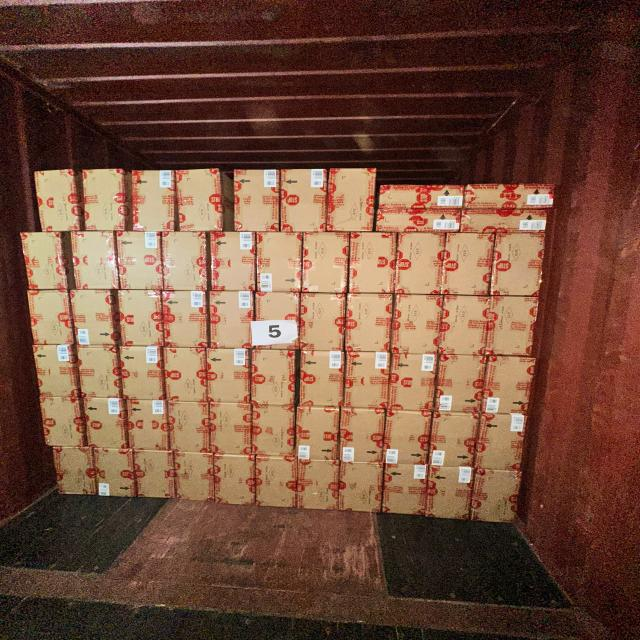Carton: (488, 232, 548, 298), (442, 229, 496, 299), (392, 230, 448, 297), (478, 353, 538, 415), (433, 351, 490, 414), (484, 295, 541, 357), (472, 410, 528, 472), (438, 293, 493, 356), (324, 165, 375, 232), (469, 466, 524, 527), (33, 167, 83, 234), (128, 168, 178, 234), (428, 408, 483, 467), (423, 464, 475, 524), (279, 170, 326, 236), (80, 167, 127, 233), (178, 169, 225, 233), (233, 171, 280, 234), (393, 294, 442, 354), (302, 234, 349, 296), (348, 234, 395, 296), (380, 460, 431, 517), (70, 230, 118, 290), (209, 230, 256, 291), (165, 234, 212, 294), (117, 231, 164, 291), (392, 351, 439, 411), (38, 394, 90, 448), (258, 231, 304, 292), (254, 291, 302, 349), (19, 234, 66, 293), (346, 292, 392, 352), (299, 351, 346, 409), (303, 292, 349, 350), (165, 288, 211, 346), (252, 346, 298, 404), (72, 289, 118, 347), (344, 352, 390, 410), (208, 289, 252, 349), (378, 182, 466, 212), (131, 446, 179, 501), (118, 290, 164, 347), (340, 408, 386, 465), (463, 182, 556, 210), (91, 446, 140, 498), (387, 411, 433, 466), (33, 345, 79, 399), (296, 406, 341, 461), (120, 345, 165, 400), (457, 207, 548, 234), (207, 348, 251, 403), (166, 346, 209, 402), (338, 463, 384, 515), (208, 402, 252, 456), (29, 290, 72, 345), (52, 445, 98, 496), (82, 397, 124, 451), (374, 208, 464, 233), (253, 406, 296, 458), (212, 457, 255, 509), (79, 345, 121, 397), (127, 399, 169, 451), (256, 459, 298, 510), (298, 461, 340, 512), (168, 402, 209, 453), (174, 452, 214, 501)
